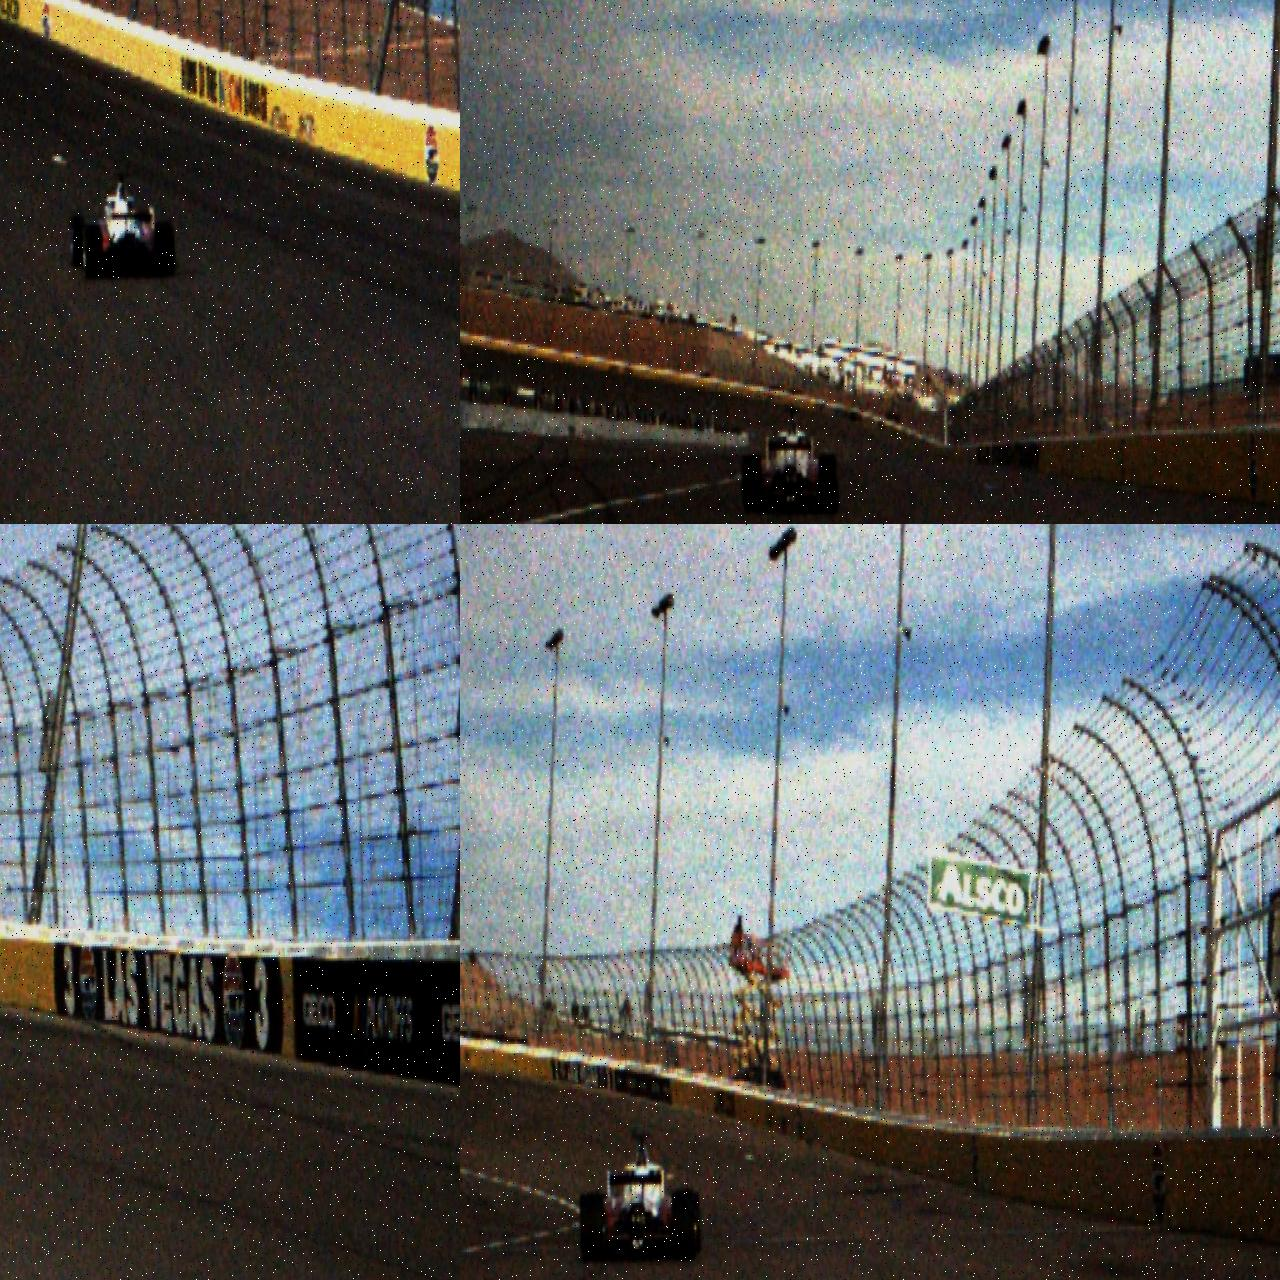AV: (579, 1131, 701, 1264), (68, 170, 177, 280), (741, 406, 839, 517)
Wheel: (672, 1190, 697, 1261), (580, 1193, 605, 1261), (742, 452, 763, 516), (818, 454, 839, 516), (82, 224, 104, 279), (155, 222, 176, 278), (69, 216, 86, 267)
